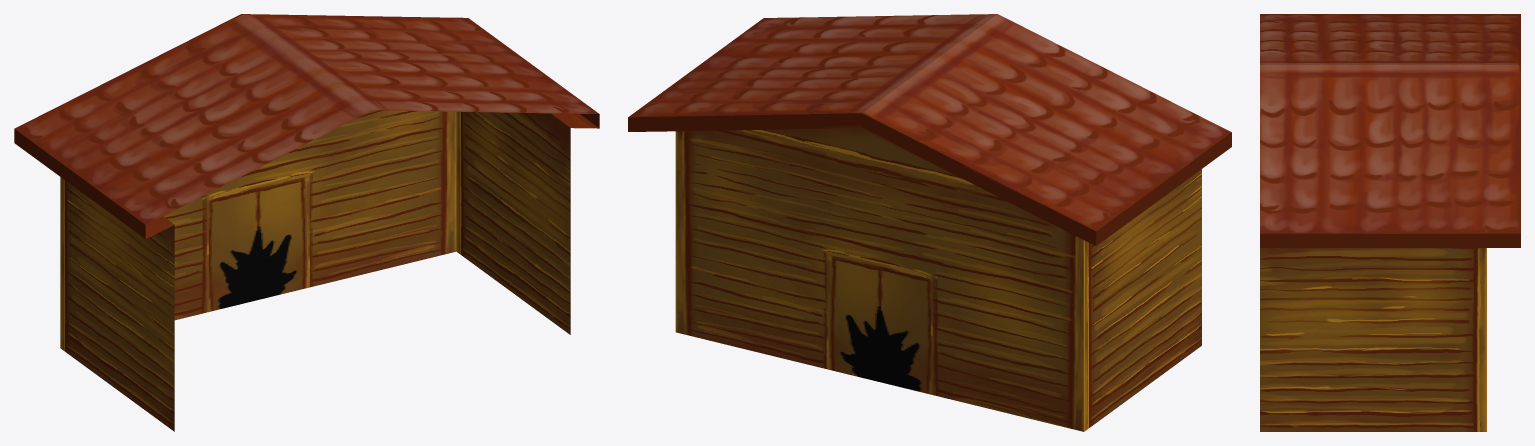
Rendered from casinha.fbx.
3 views of the same model, side by side, from view 1: azimuth 30°, elevation 25°; view 2: azimuth 150°, elevation 25°; view 3: azimuth 270°, elevation 25° (orthographic). The views are drawn at different scales.
Visible parts, largest first — view 1: Cube.010; view 2: Cube.010; view 3: Cube.010.
Part boxes in pixels (box(x1,y1,x2,y2)): Cube.010: box(14, 14, 599, 431); Cube.010: box(628, 14, 1231, 431); Cube.010: box(1260, 14, 1520, 431).
Size of the model in its own units: 917 by 528 by 460.
1 material, 1 textured.
